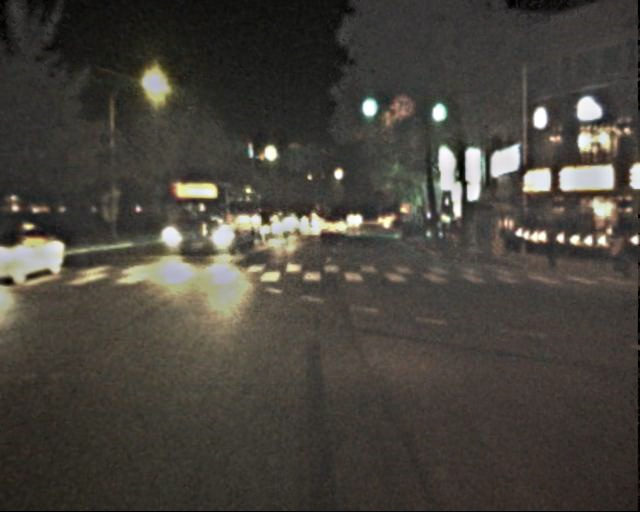person: (603, 232, 625, 276), (542, 227, 560, 271)
